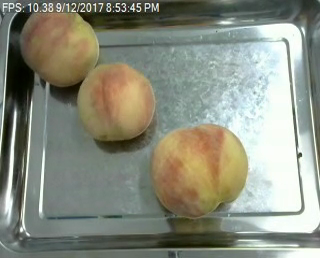Peach: (151, 123, 249, 217), (19, 4, 100, 87), (77, 63, 156, 142)
